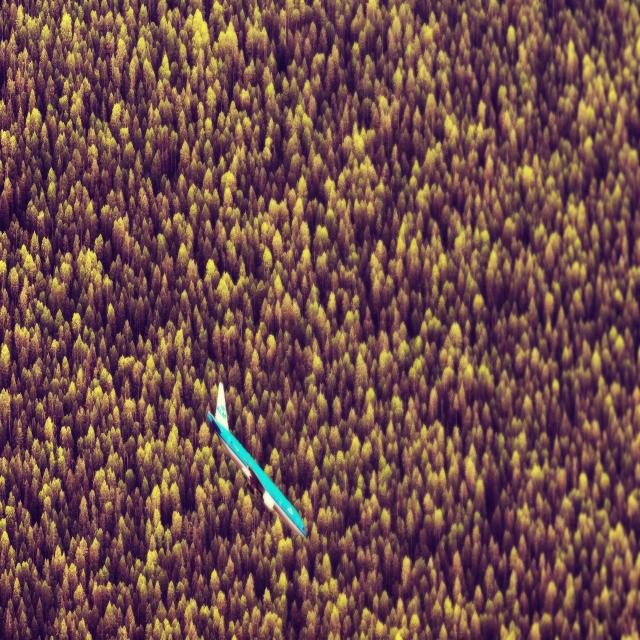airplane: (206, 380, 307, 540)
